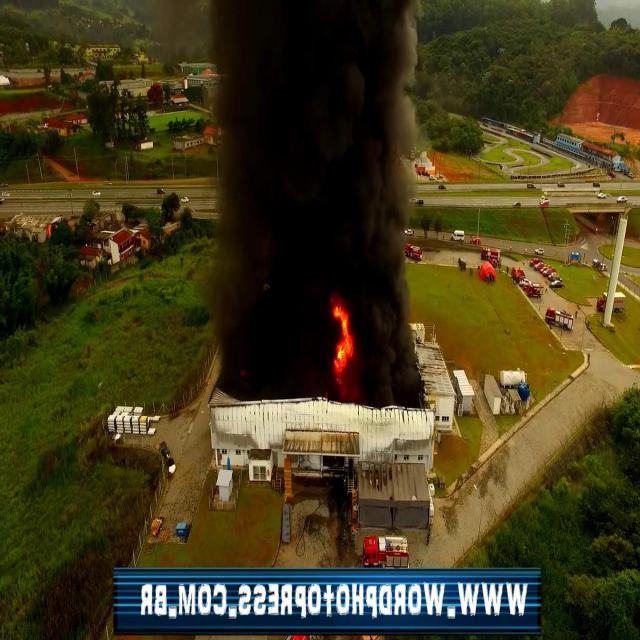fire: (324, 300, 366, 406)
